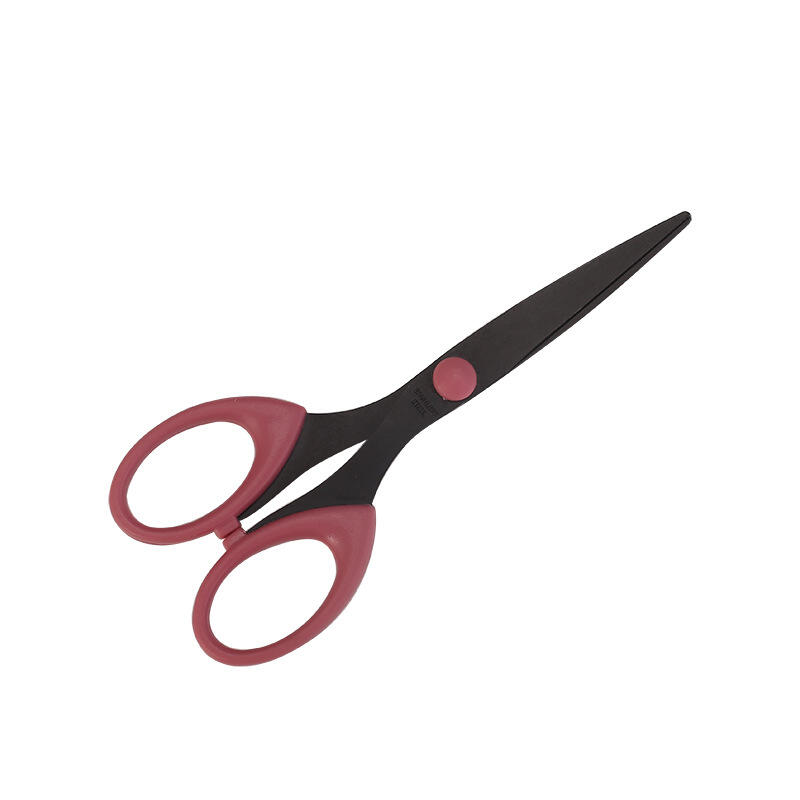scissors: (100, 206, 699, 676)
